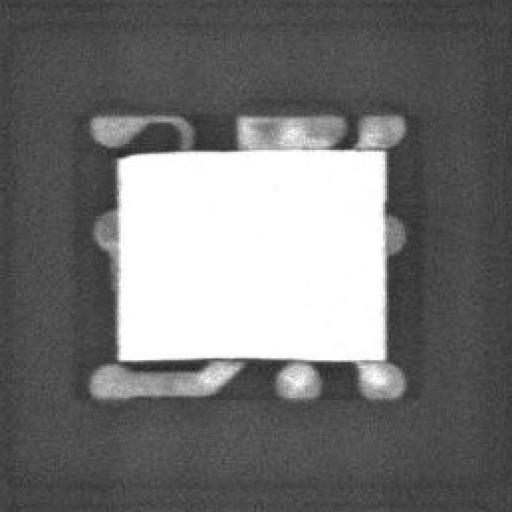DIE_BROKEN: (111, 148, 181, 159)
